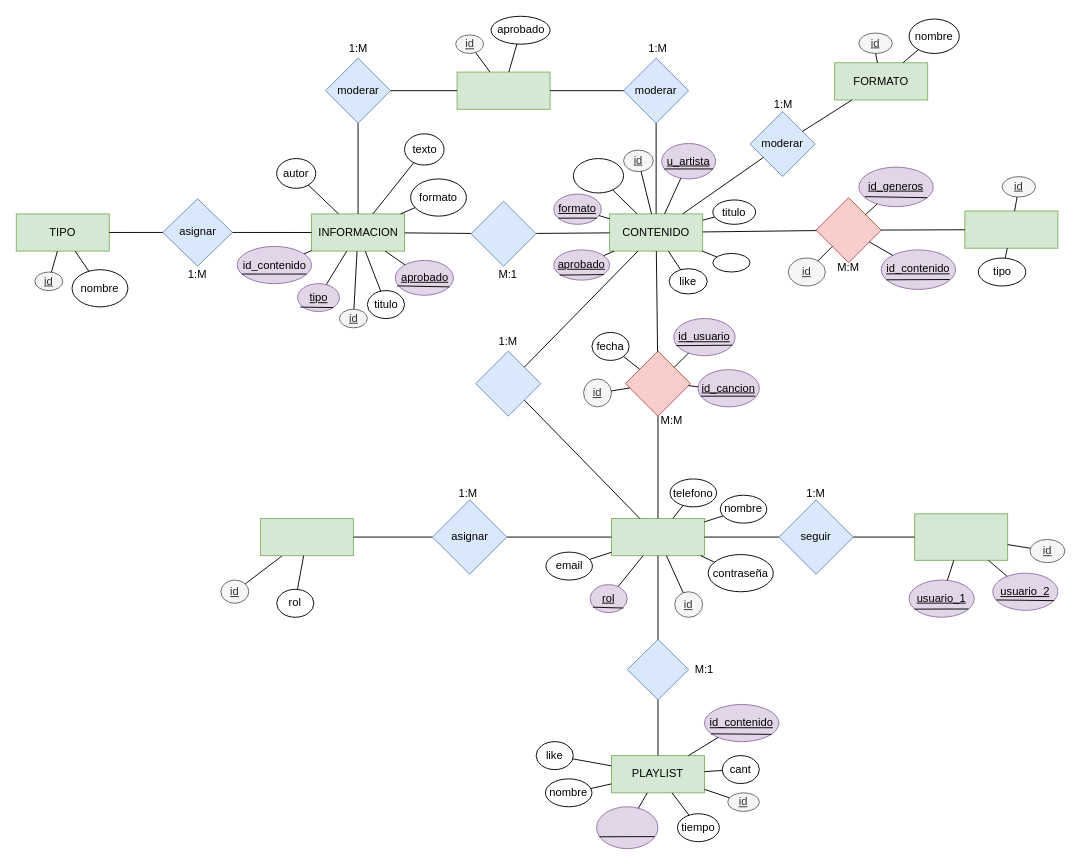
This 1082x865 diagram has some shape labels left out. Each missing label, with the centre of its shape:
armar: [657,669]
cargar: [508,383]
duracion: [598,175]
etiqueta: [848,230]
GENEROS: [1011,229]
historial: [657,383]
letra: [731,262]
MODERACION: [503,90]
RED (amistad/seguir): [961,536]
relacionar: [503,233]
ROLES: [306,537]
usuario_id: [627,827]
USUARIOS: [657,537]
